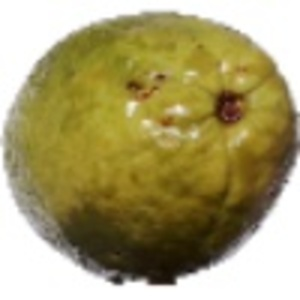goiaba: (1, 8, 292, 277)
